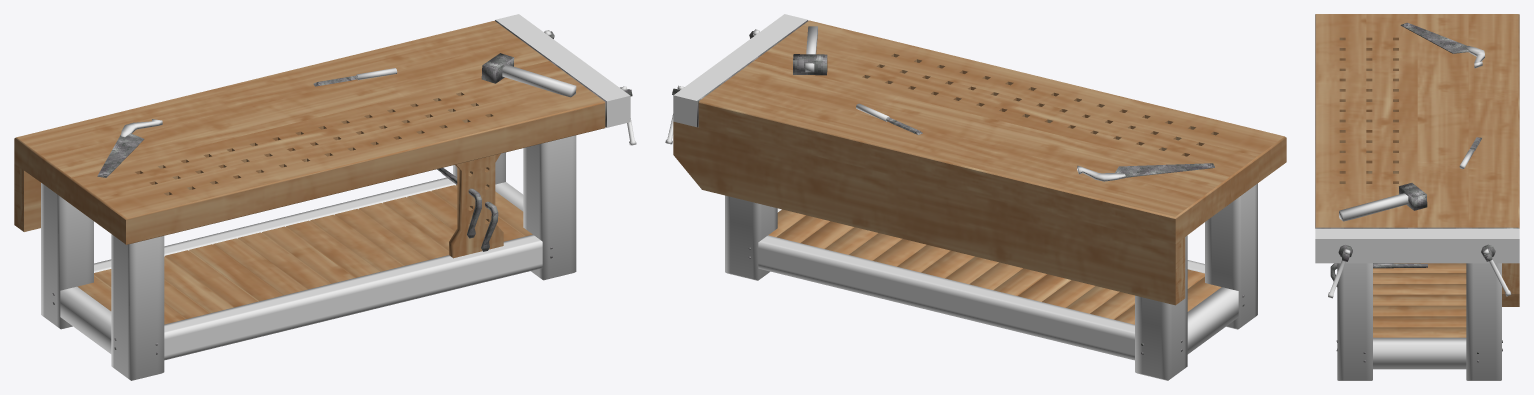
Rendered from CoolerWorkBenchHigh.fbx.
3 views of the same model, side by side, from view 1: azimuth 30°, elevation 25°; view 2: azimuth 150°, elevation 25°; view 3: azimuth 270°, elevation 25° (orthographic). The views are drawn at different scales.
Visible parts, largest first — view 1: Table_fw, Table_cw, Table_m; view 2: Table_fw, Table_cw, Table_m; view 3: Table_fw, Table_cw, Table_m.
Part boxes in pixels (box(x1,y1,x2,y2)): Table_fw: box(14, 20, 605, 324); Table_cw: box(41, 14, 636, 380); Table_m: box(52, 20, 632, 354); Table_fw: box(673, 20, 1286, 324); Table_cw: box(665, 14, 1257, 380); Table_m: box(672, 20, 1244, 354); Table_fw: box(1315, 14, 1519, 337); Table_cw: box(1315, 46, 1519, 380); Table_m: box(1315, 22, 1518, 362).
Size of the model in its own units: 3.1 by 1.09 by 1.15.
